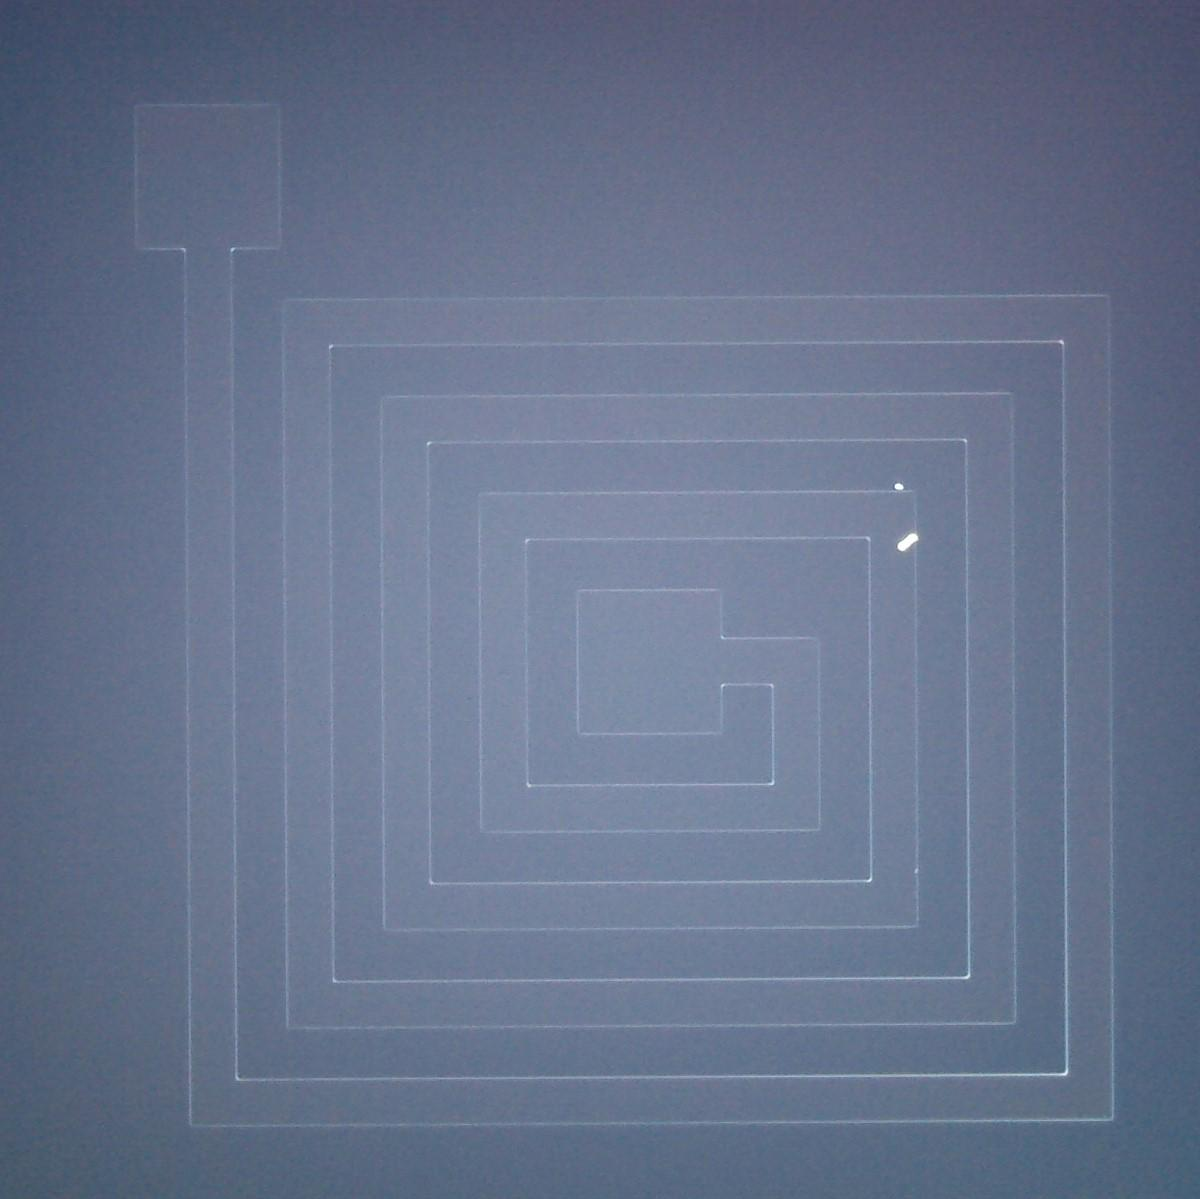B_point: (893, 529, 922, 556), (888, 477, 909, 497)
s_point: (907, 862, 928, 881)
